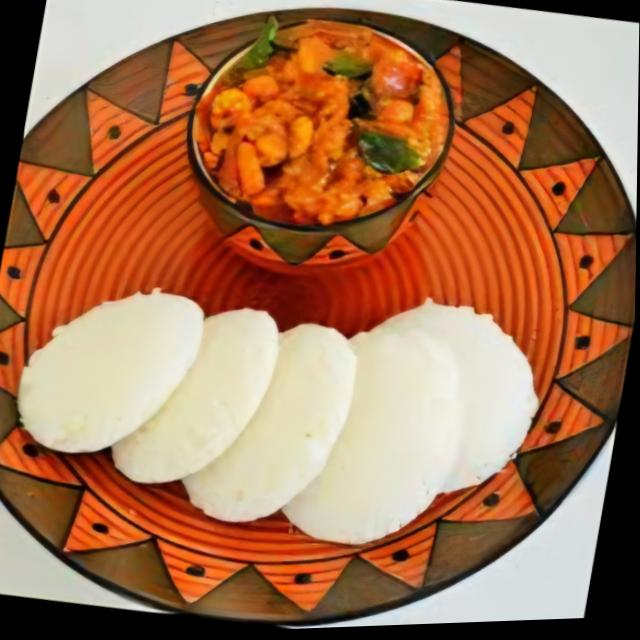CURRY: (148, 0, 474, 274)
IDLI: (0, 222, 578, 547)
